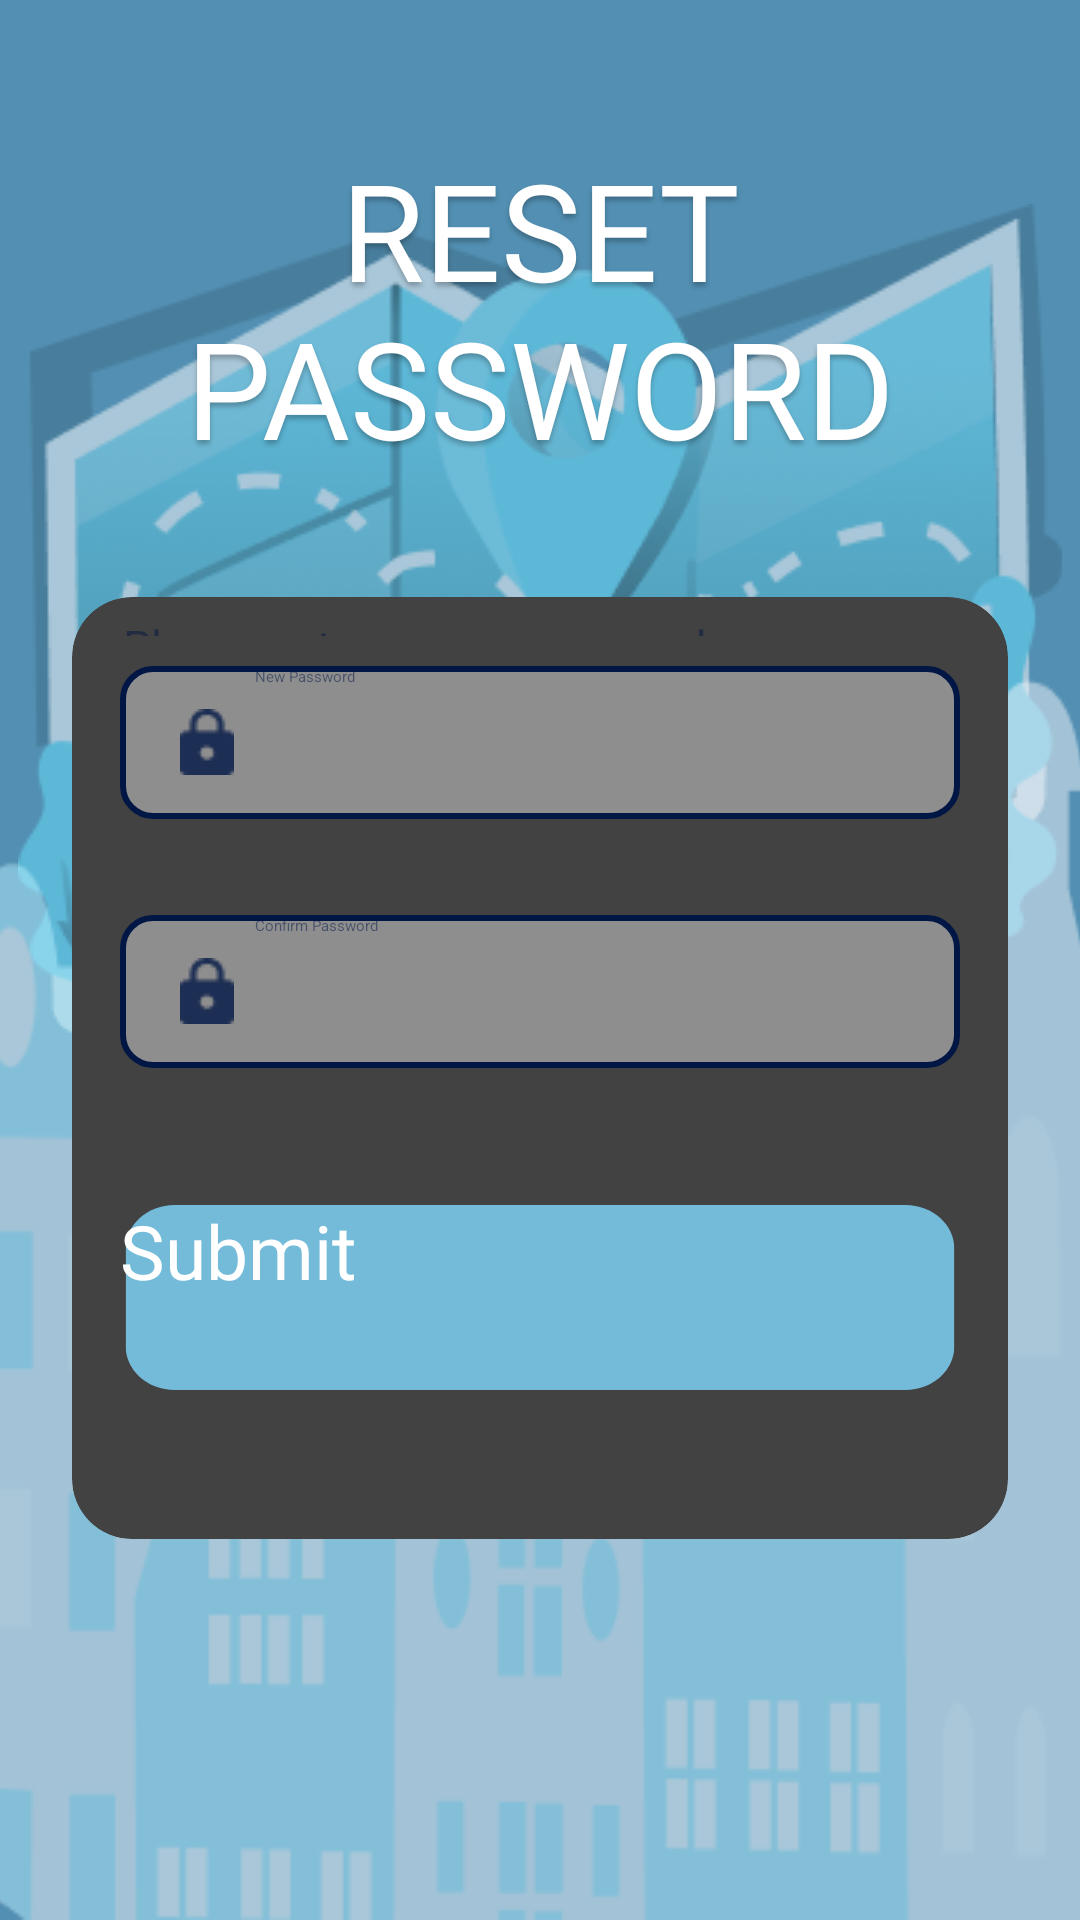

Icon bounding boxes for this 1080px x 1920px phone screenshot, format region(x1, y1, x2, y2):
lock: region(180, 709, 234, 775), region(180, 958, 234, 1024)
